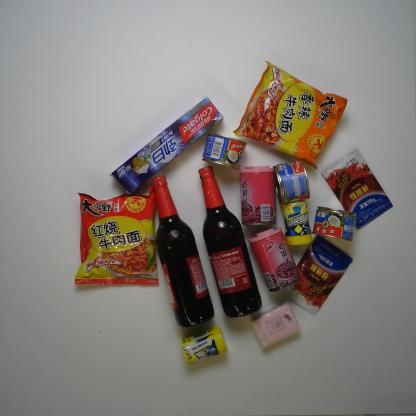Alcohol: (199, 166, 264, 319), (149, 173, 213, 327)
Canned Food: (247, 224, 301, 294), (238, 162, 277, 229), (270, 158, 312, 202), (201, 132, 249, 168), (310, 205, 358, 241)
Gum: (278, 193, 313, 249), (183, 328, 228, 366)
Instant Noodles: (233, 62, 348, 172), (73, 185, 161, 283)
Personal Hygiene: (110, 94, 223, 197)
Seasoner: (320, 144, 393, 230), (282, 234, 352, 316)
Tissue: (250, 302, 303, 348)
